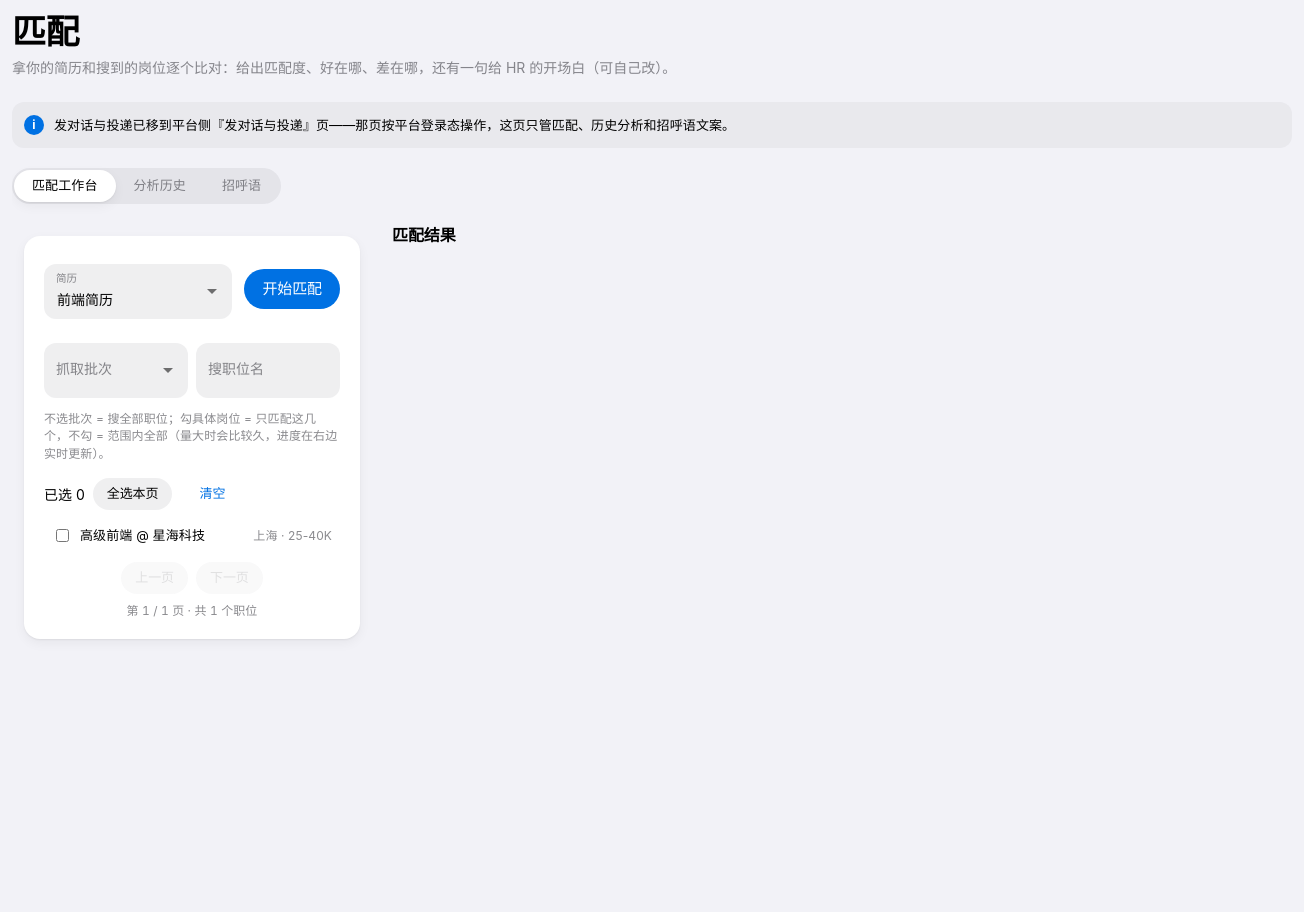
Test: MatchPage 匹配结果骨架屏 › 载入历史分析在途用骨架屏预占结果区，回来后换成真卡
The width and height of the screenshot is (1304, 912).
Click the radio button labelled "分析历史".
click(160, 186)  # box [116,170,204,202]
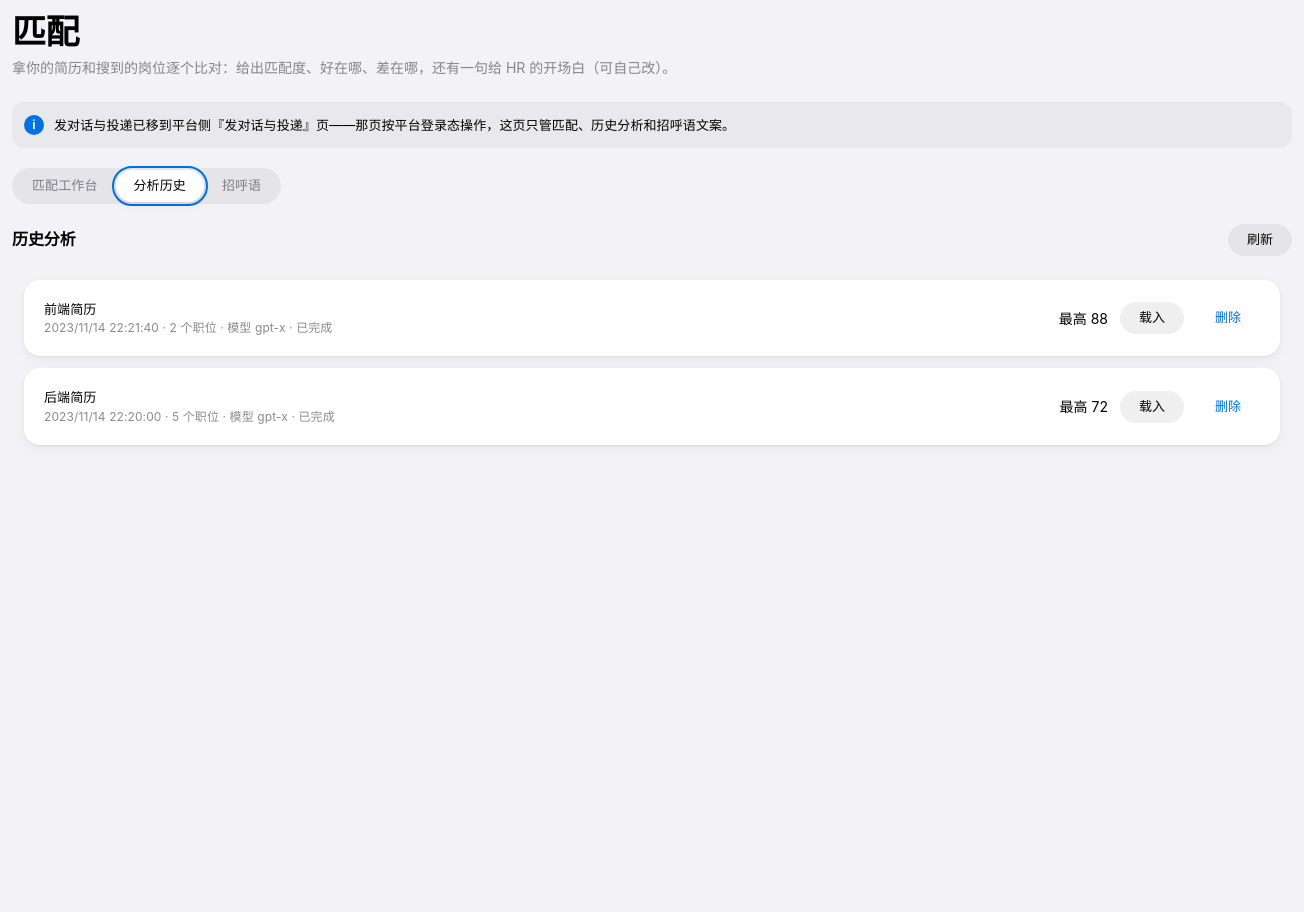
Click the button "载入" next to "88".
click(1152, 318)  # box [1120,302,1184,334]
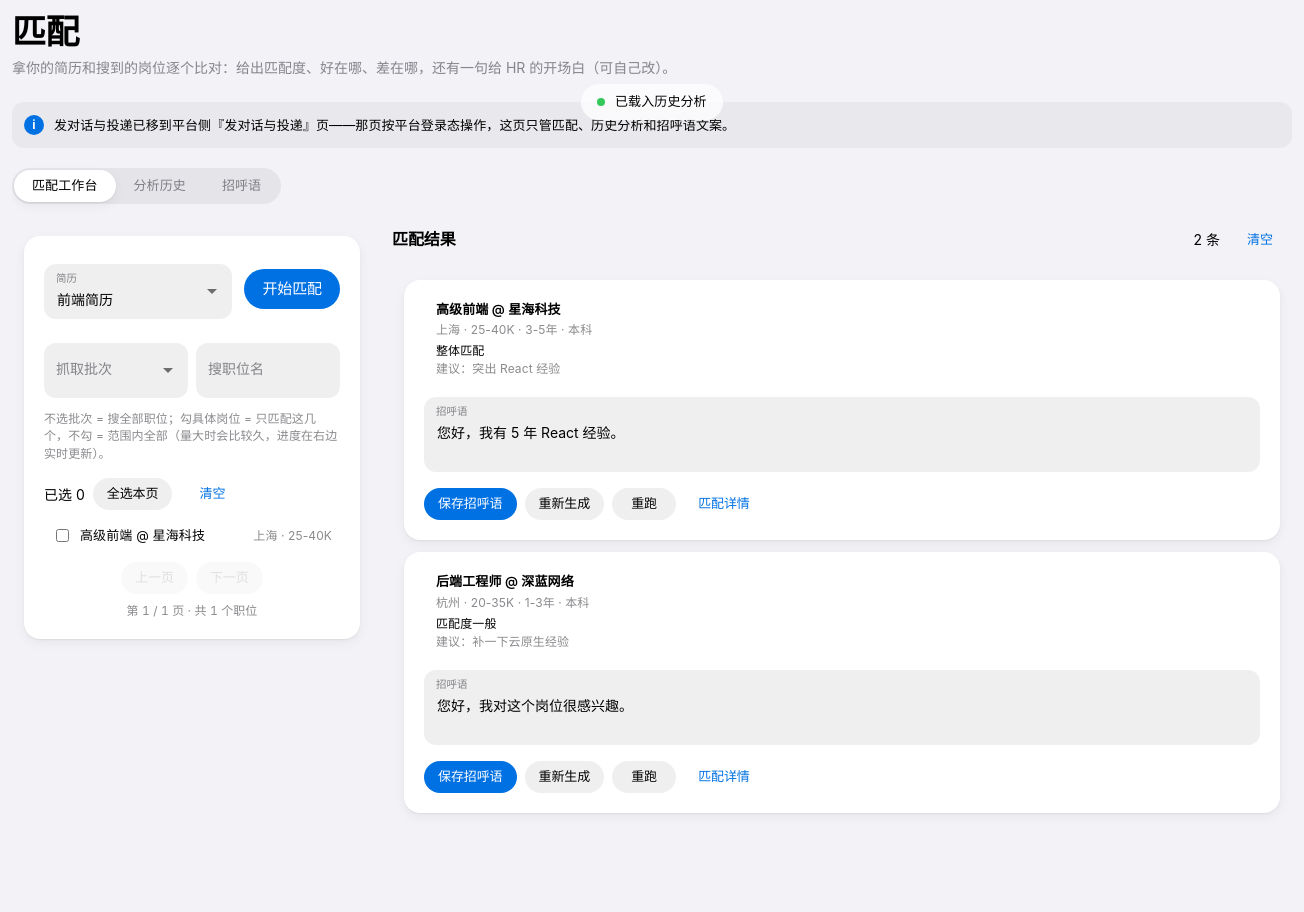
Check: the element with test id "match-results-skeleton" is shown, box [404,280,1280,813]
Check: the element named "匹配结果 高级前端 星海科技" is shown, box [404,280,1280,540]
